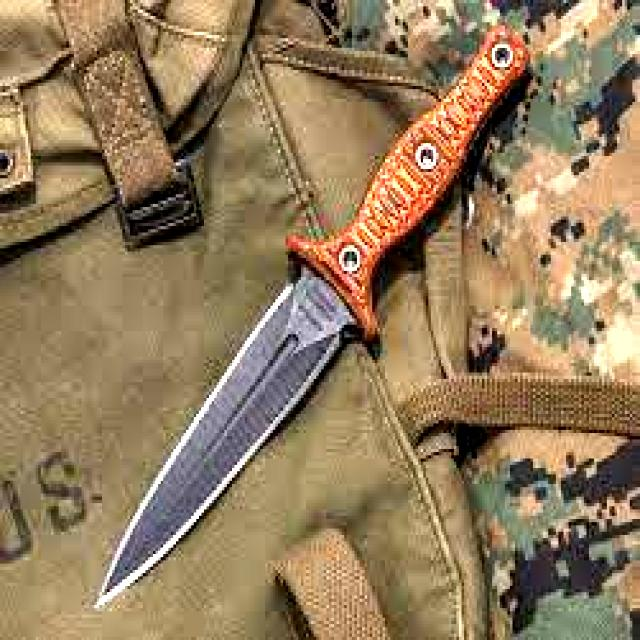short sword: (81, 20, 537, 613)
